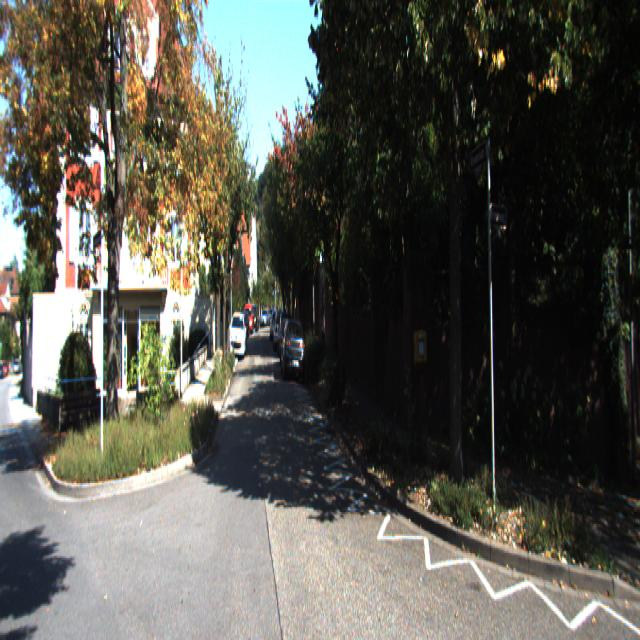Car: (280, 314, 305, 386), (228, 312, 246, 363)
DontCare: (0, 354, 33, 379), (251, 306, 282, 329)
